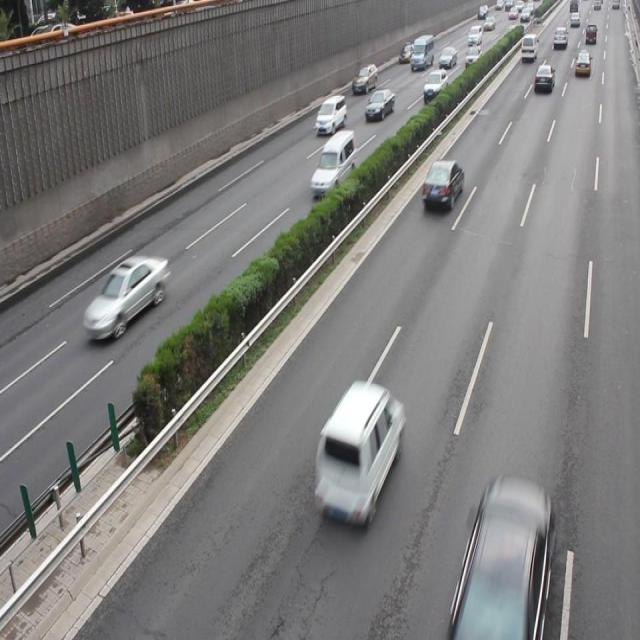car: (455, 481, 551, 640), (82, 252, 168, 342), (420, 157, 464, 213), (364, 88, 394, 122)
truck: (312, 384, 403, 530), (310, 129, 354, 193), (314, 95, 345, 134)
